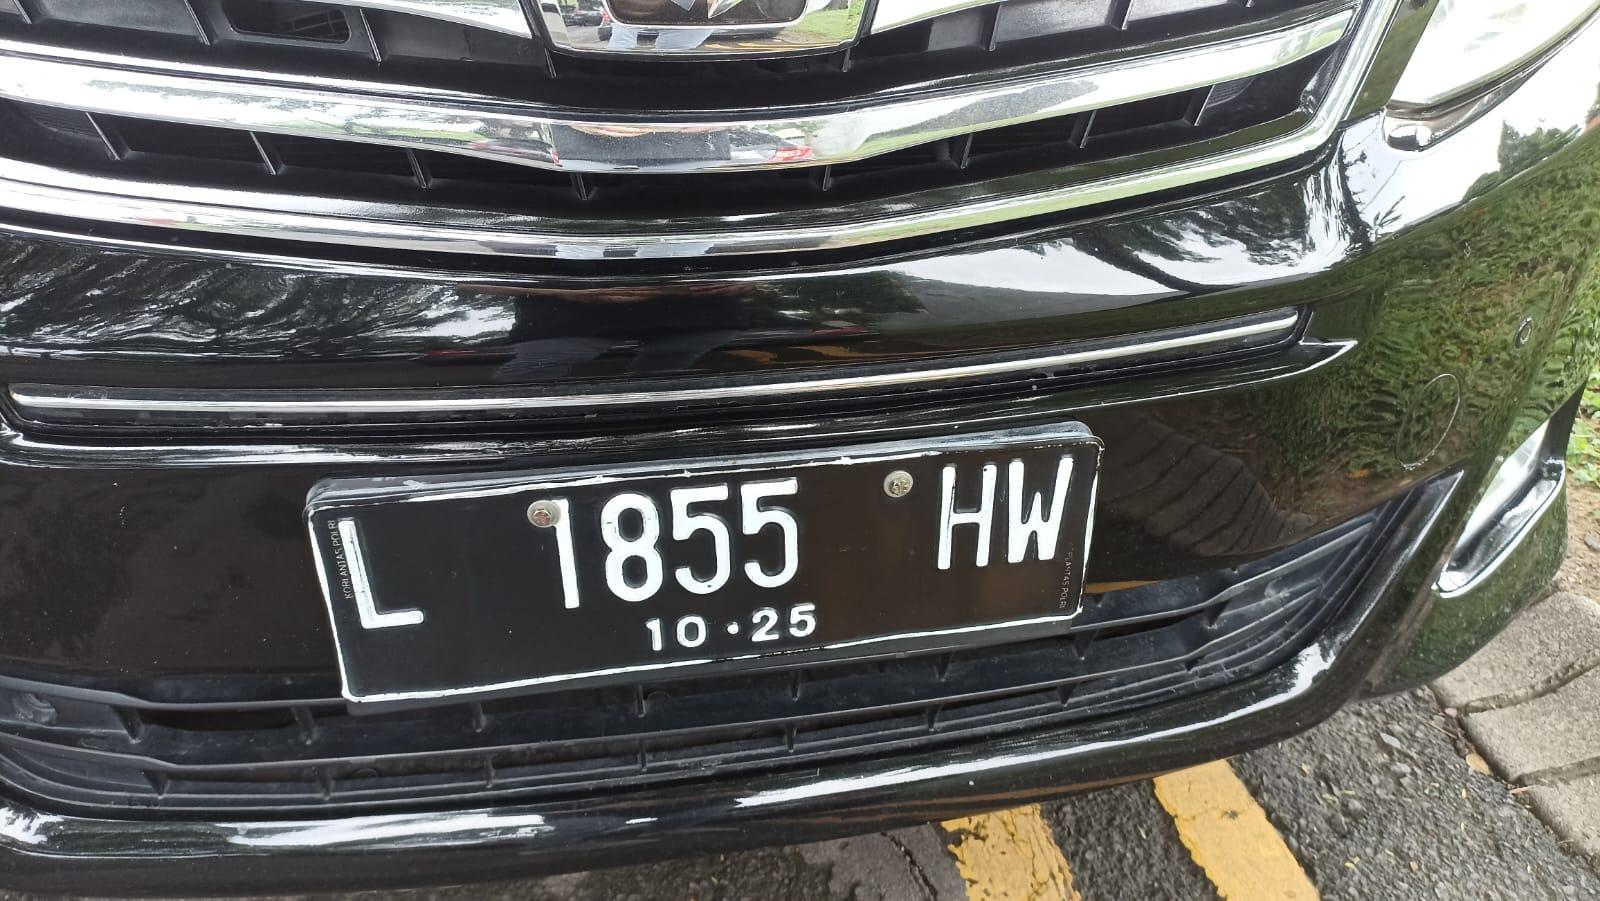plat: (307, 422, 1100, 703)
